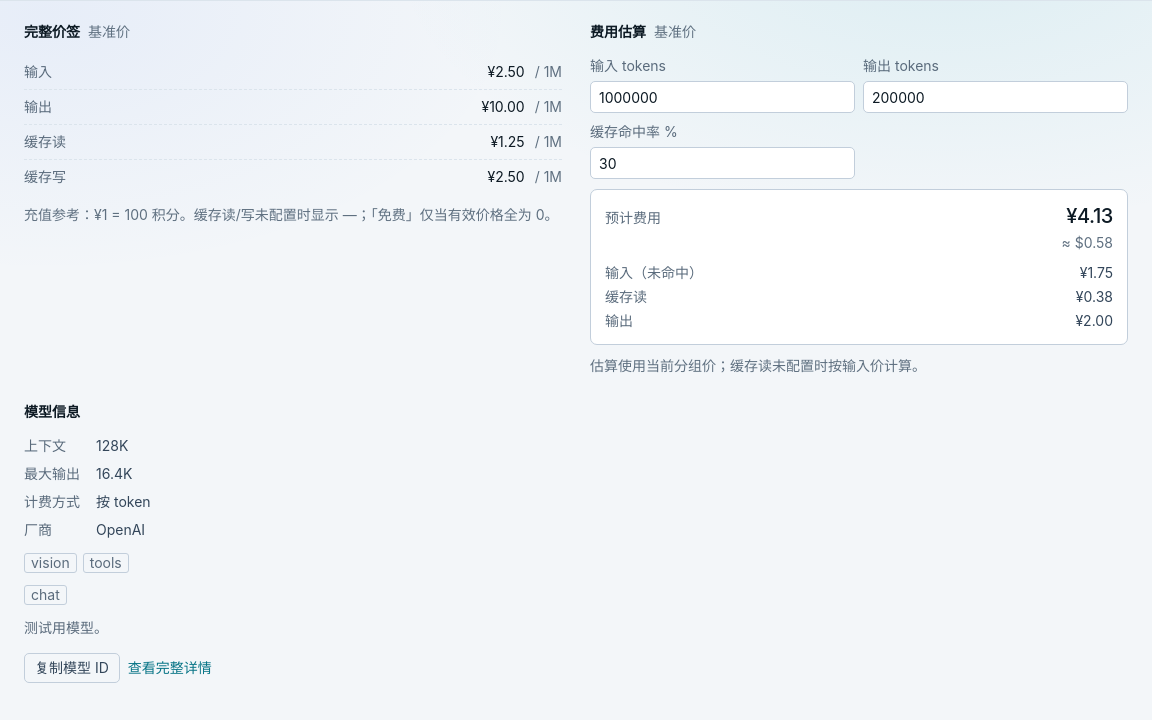
Test: PricingDetail › recalculates the estimate when output tokens change
This screenshot has width=1152, height=720.
Expected: the text "¥4.13" is shown, [1066,202,1113,230]
Replace the text in the number field labelled "输出 tokens" with "400000": x=996, y=97 [863,81,1128,113]
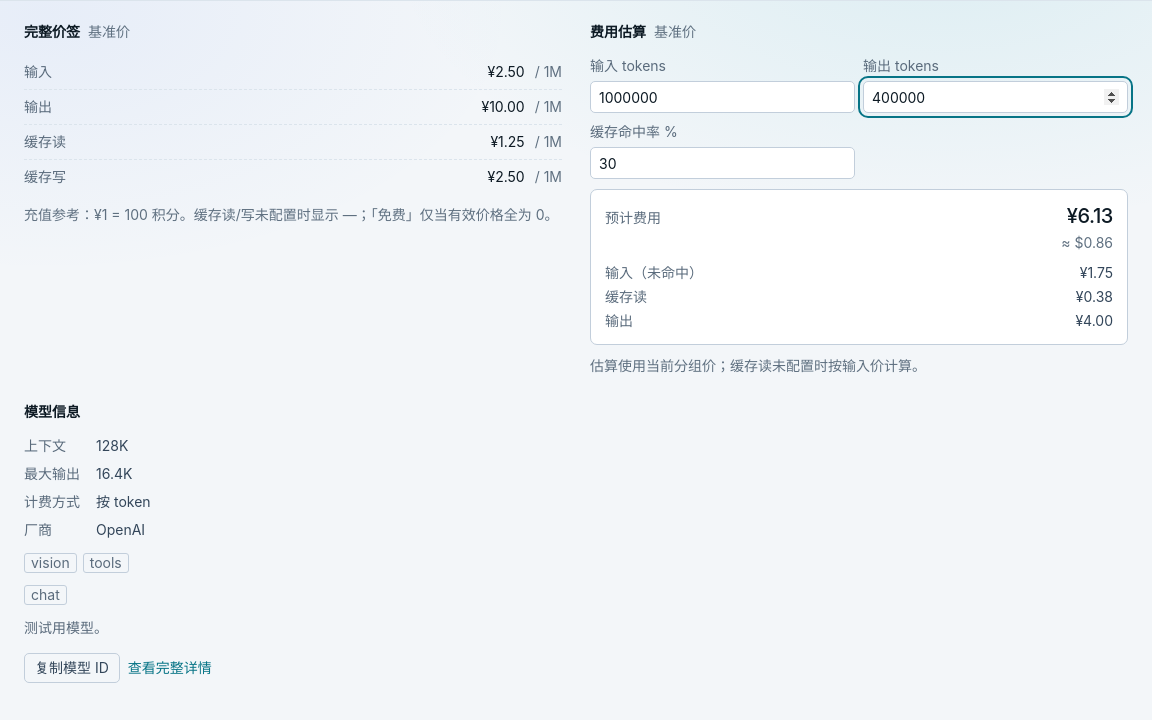
Expected: the text "¥4.13" is not shown
Expected: the text "¥6.13" is shown, [1067,202,1113,230]
